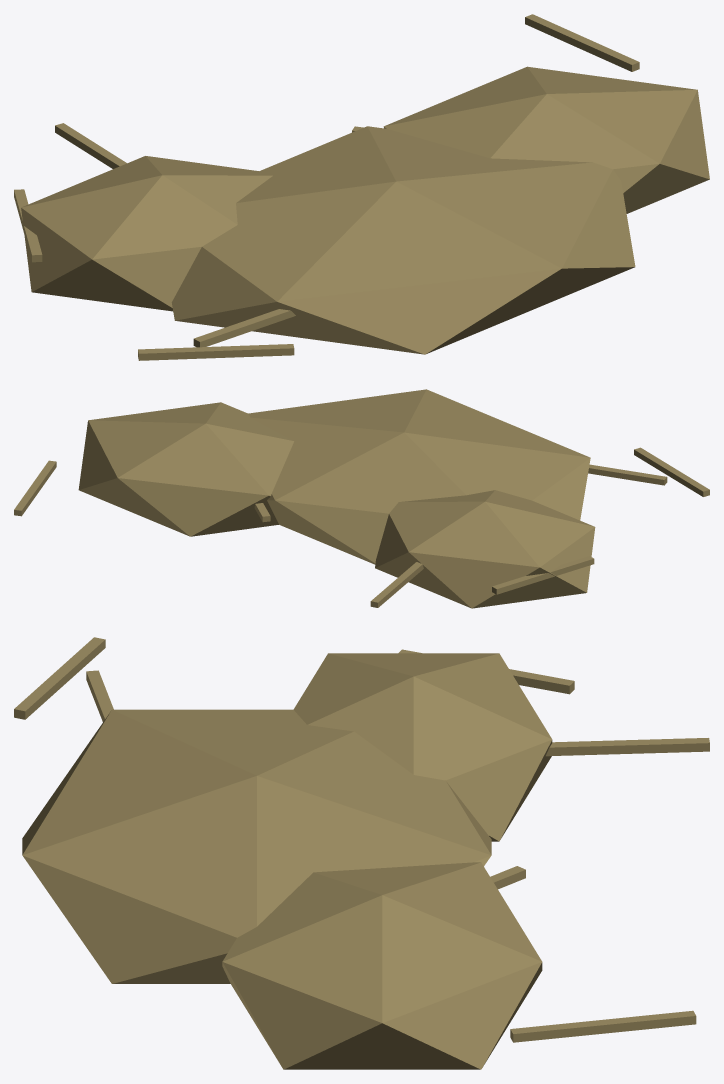
The model's file is straw_bed.glb.
3 views of the same model, one above another, from view 1: azimuth 30°, elevation 25°; view 2: azimuth 150°, elevation 25°; view 3: azimuth 270°, elevation 25° (orthographic). The views are drawn at different scales.
Visible parts, largest first — view 1: matted straw, matted straw.001, matted straw.002, loose straw.006, loose straw.002, loose straw.007, loose straw.008, loose straw; view 2: matted straw, matted straw.001, matted straw.002, loose straw, loose straw.006, loose straw.007, loose straw.002, loose straw.008; view 3: matted straw, matted straw.001, matted straw.002, loose straw.002, loose straw.008, loose straw.006, loose straw, loose straw.007.
Boxes of the visible parts, <box> form: matted straw: <box>171,126,635,354</box>; matted straw.001: <box>383,66,709,213</box>; matted straw.002: <box>21,156,272,311</box>; loose straw.006: <box>138,344,294,360</box>; loose straw.002: <box>525,14,639,71</box>; loose straw.007: <box>193,309,295,347</box>; loose straw.008: <box>55,123,126,168</box>; loose straw: <box>14,189,42,262</box>; matted straw: <box>248,389,590,564</box>; matted straw.001: <box>78,402,294,536</box>; matted straw.002: <box>375,490,595,608</box>; loose straw: <box>492,556,594,594</box>; loose straw.006: <box>634,447,709,496</box>; loose straw.007: <box>588,464,667,485</box>; loose straw.002: <box>14,460,56,516</box>; loose straw.008: <box>370,562,423,607</box>; matted straw: <box>22,709,491,983</box>; matted straw.001: <box>222,862,542,1069</box>; matted straw.002: <box>293,653,552,841</box>; loose straw.002: <box>510,1010,696,1042</box>; loose straw.008: <box>546,738,709,756</box>; loose straw.006: <box>14,637,105,719</box>; loose straw: <box>398,649,574,694</box>; loose straw.007: <box>86,670,113,721</box>.
Bounding box in the file's own units: 0.6028 × 0.1 × 0.444.
